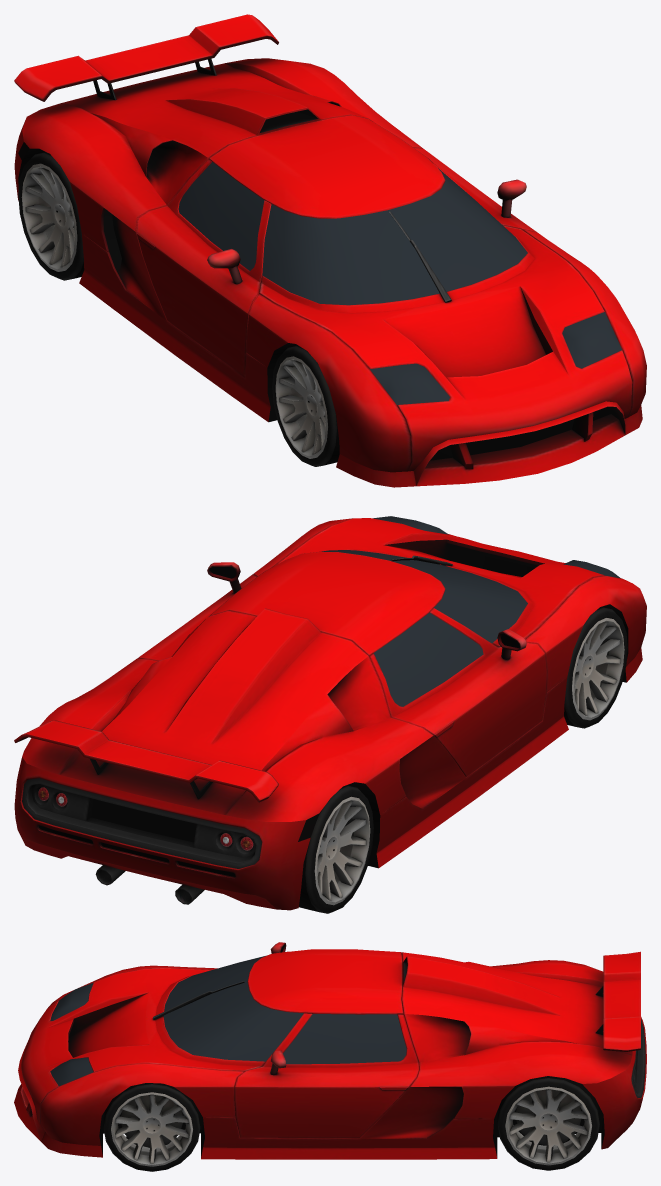
File: car_sport.gltf
The picture shows the model from 3 angles, top to bottom: view 1: azimuth 30°, elevation 25°; view 2: azimuth 150°, elevation 25°; view 3: azimuth 270°, elevation 25°; orthographic projection. The views are drawn at different scales.
Parts seen in each view (by area): view 1: car_sport; view 2: car_sport; view 3: car_sport.
Part boxes in pixels (x1=…): car_sport: x1=14, y1=14, x2=646, y2=487; car_sport: x1=14, y1=516, x2=646, y2=913; car_sport: x1=14, y1=942, x2=646, y2=1171.
Bounding box in the file's own units: 1.99 × 1.17 × 4.4.
Materials: 1 (1 with a texture image).
